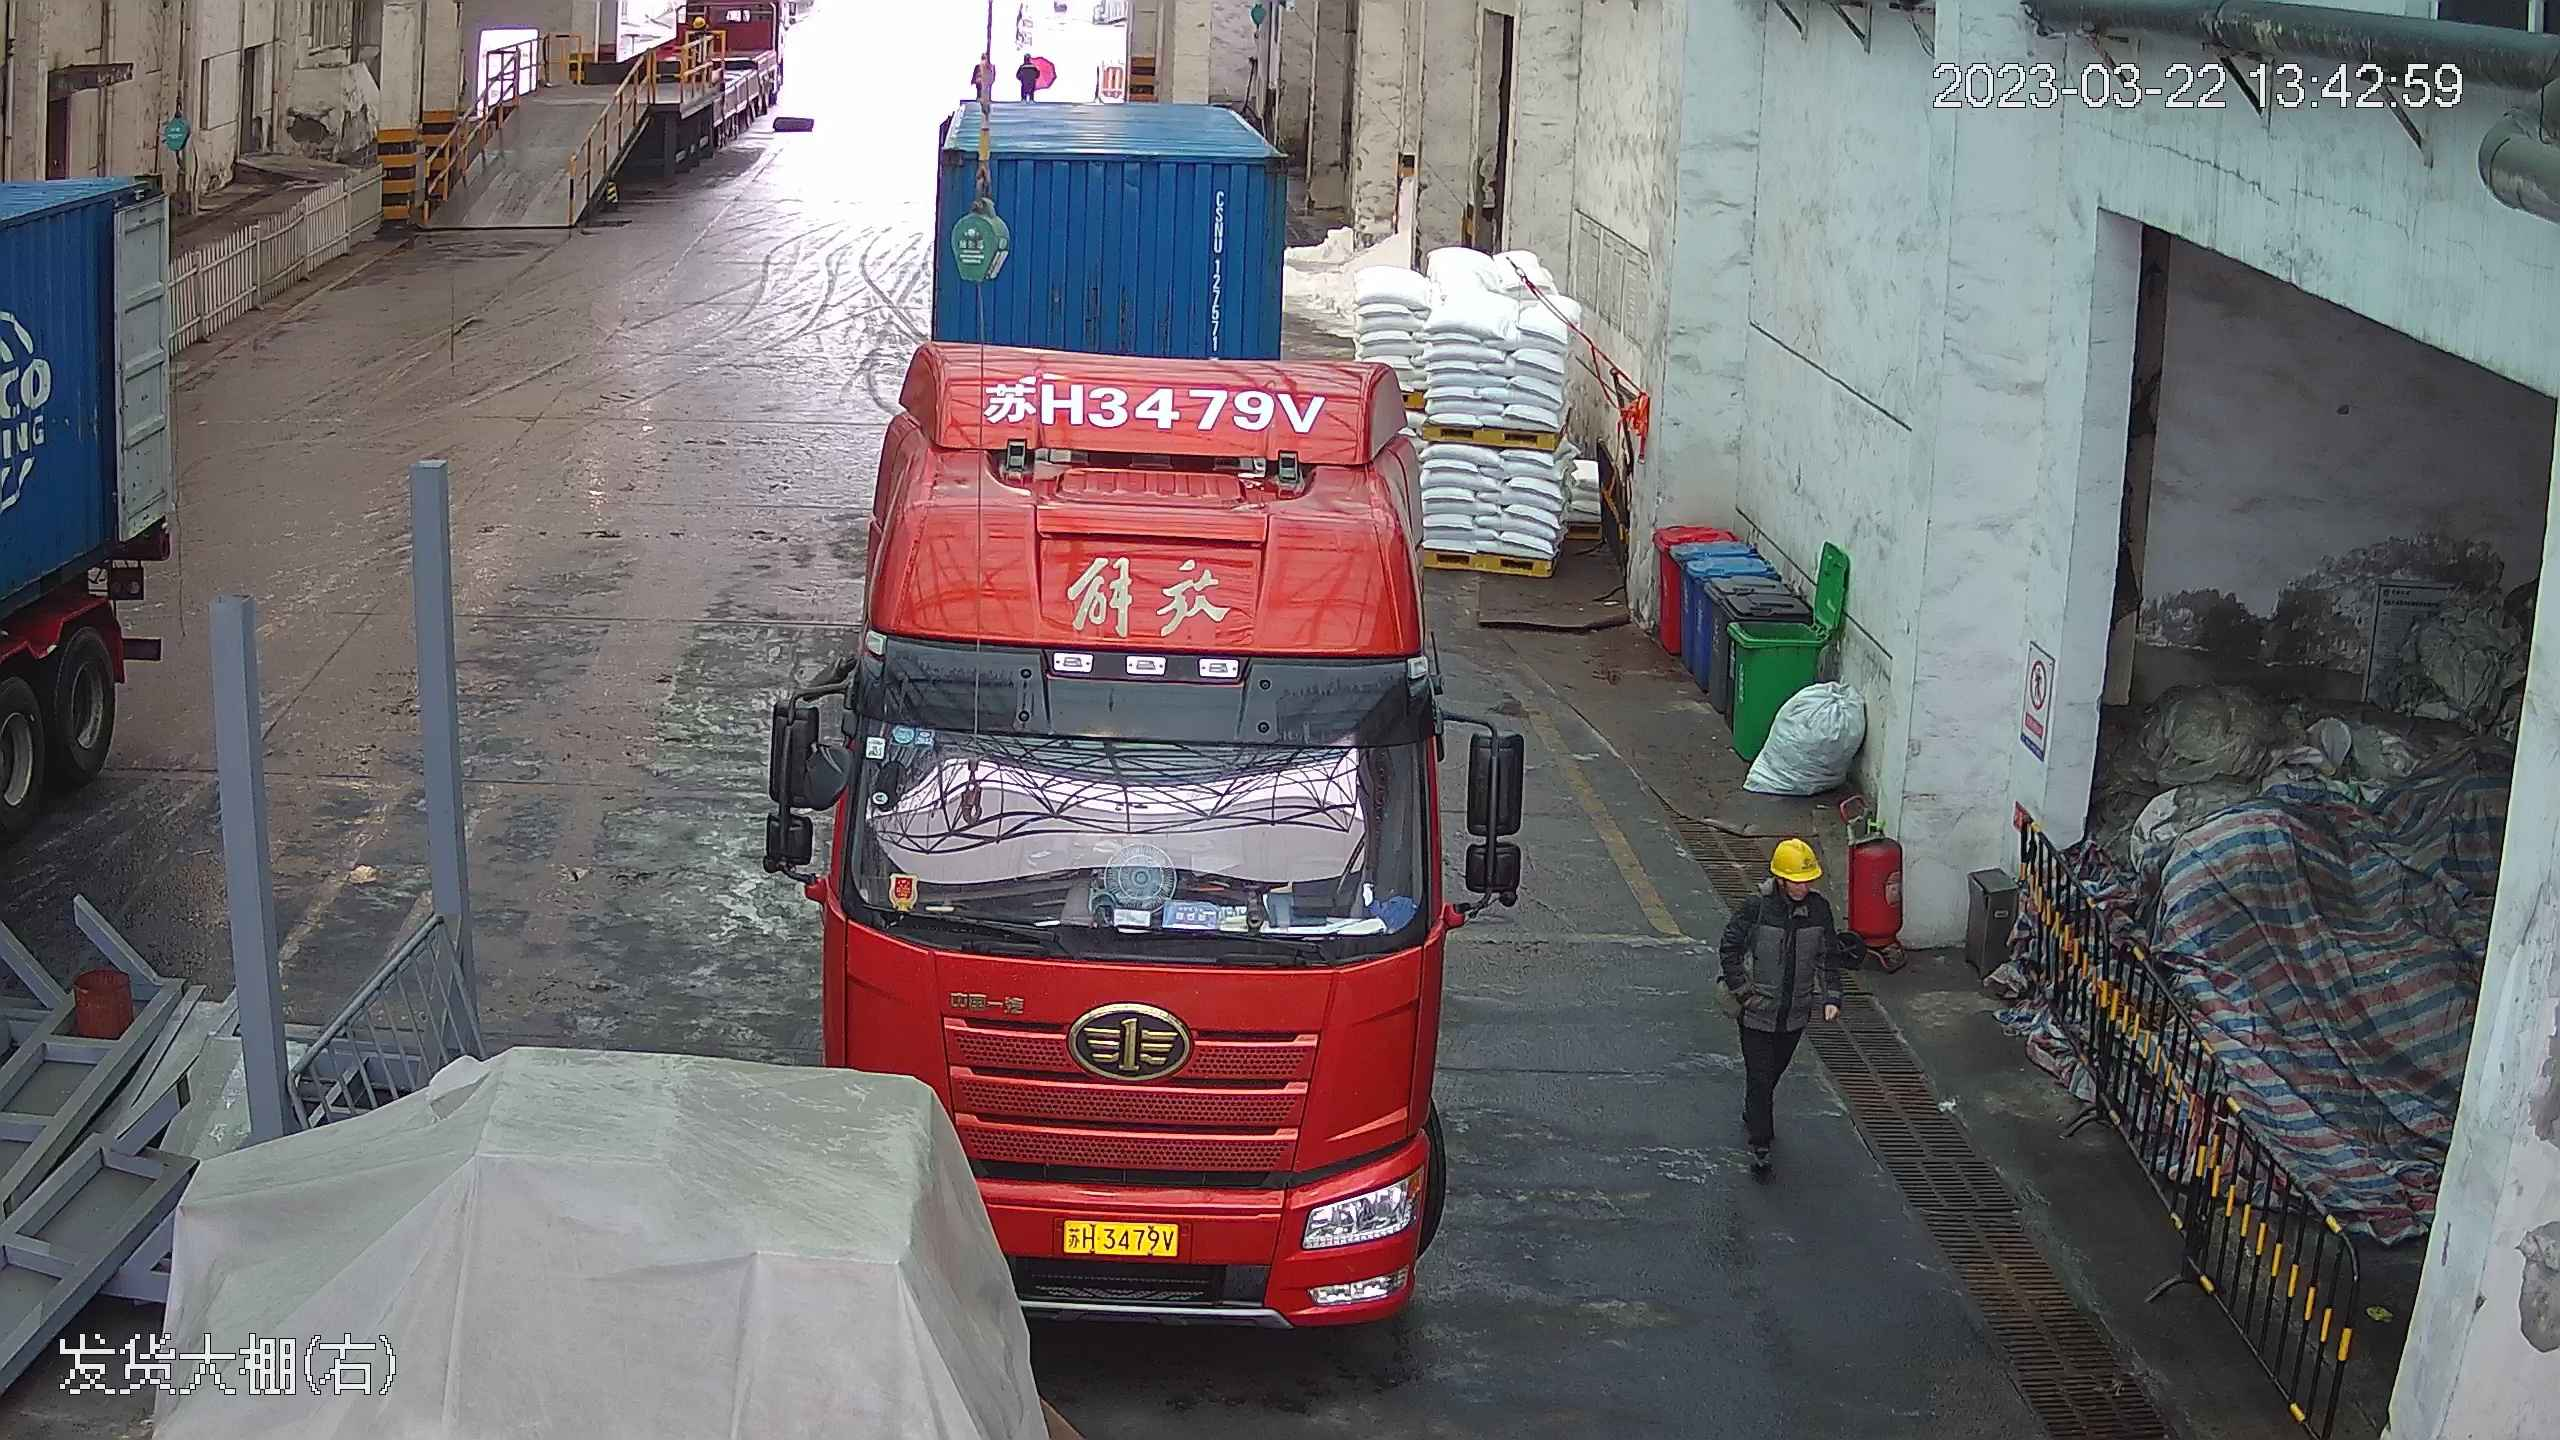head: (1728, 835, 1844, 948)
helmet: (1770, 836, 1826, 881)
people: (1715, 833, 1853, 1184)
truck: (809, 15, 1467, 1311), (0, 58, 168, 993)
